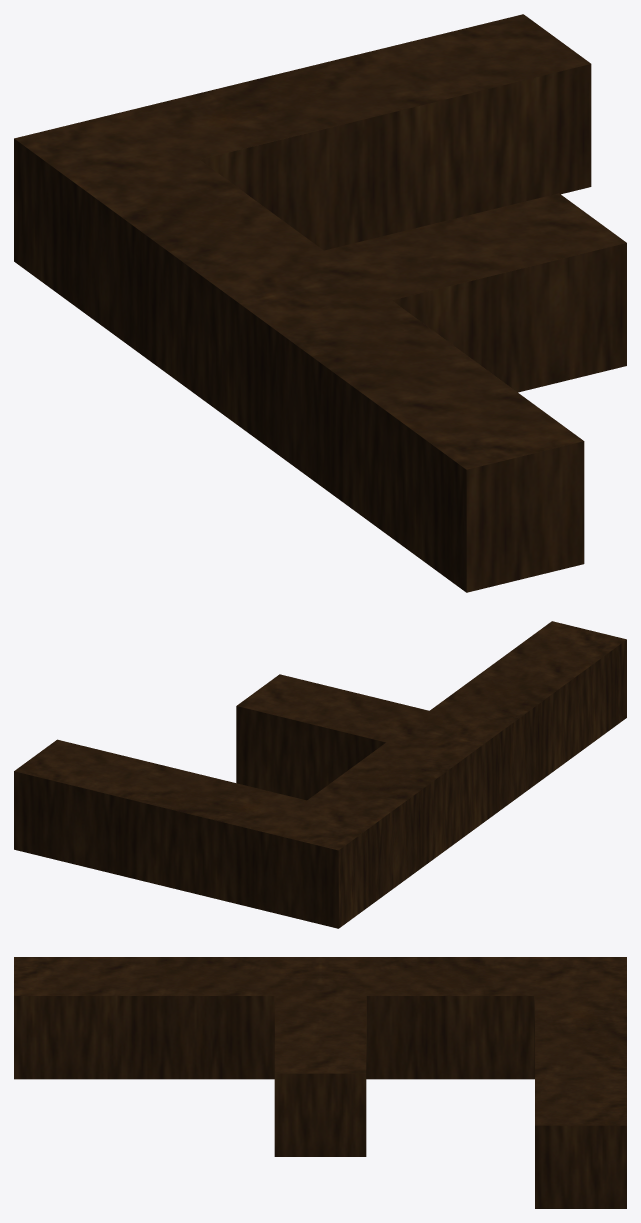
The model's file is LetterF.obj.
3 renders of one model, top to bottom at view 1: azimuth 30°, elevation 25°; view 2: azimuth 150°, elevation 25°; view 3: azimuth 270°, elevation 25°, orthographic. The views are drawn at different scales.
Visible parts, largest first — view 1: LetterF; view 2: LetterF; view 3: LetterF.
Part boxes in pixels (bbox=[...]): LetterF: bbox=[14, 14, 626, 592]; LetterF: bbox=[14, 621, 626, 928]; LetterF: bbox=[14, 957, 626, 1208].
Bounding box in the file's own units: 0.65 × 0.15 × 1.
